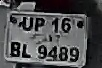1: (49, 17, 60, 34)
4: (48, 44, 59, 62)
6: (60, 17, 72, 35)
8: (58, 46, 70, 63)
9: (36, 43, 48, 61), (68, 46, 80, 64)
B: (10, 40, 21, 60)
L: (21, 43, 30, 61)
P: (34, 17, 45, 34)
U: (21, 16, 34, 33)
